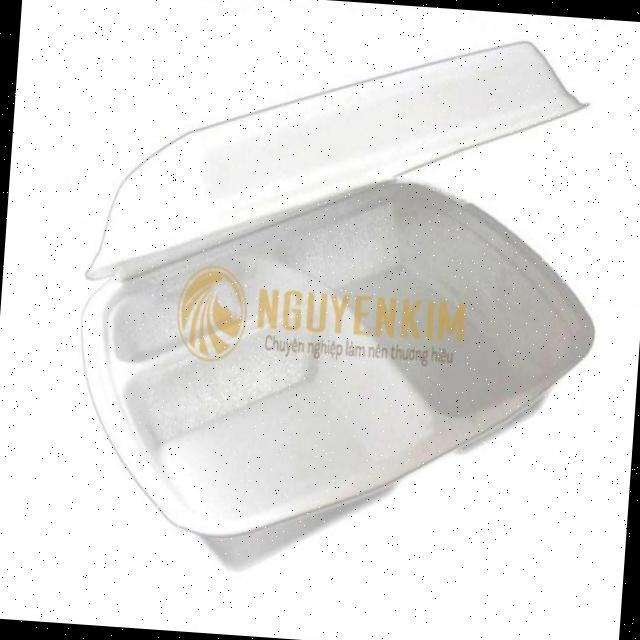styrofoam: (62, 8, 616, 582)
